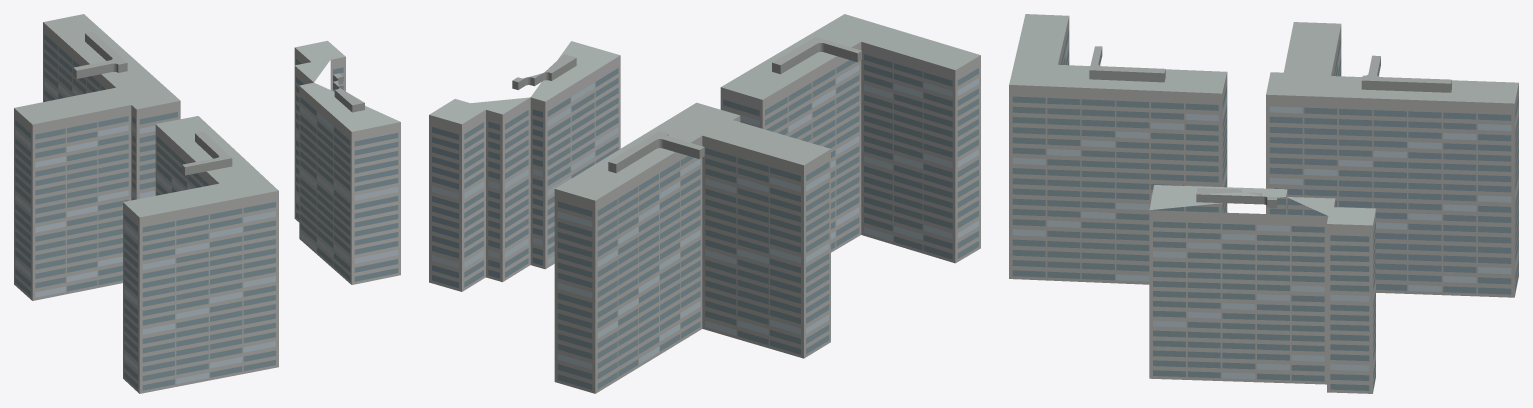
The model's file is apt-a13185507.glb.
The picture shows the model from 3 angles, left to right: view 1: azimuth 30°, elevation 25°; view 2: azimuth 150°, elevation 25°; view 3: azimuth 270°, elevation 25°; orthographic projection. The views are drawn at different scales.
Parts seen in each view (by area): view 1: apt-a13185507; view 2: apt-a13185507; view 3: apt-a13185507.
Boxes of the visible parts, x1,y1,x2,y2 form: apt-a13185507: (14,14,400,393); apt-a13185507: (429,14,980,393); apt-a13185507: (1009,14,1518,393).
Bounding box in the file's own units: 104 × 53 × 120.
